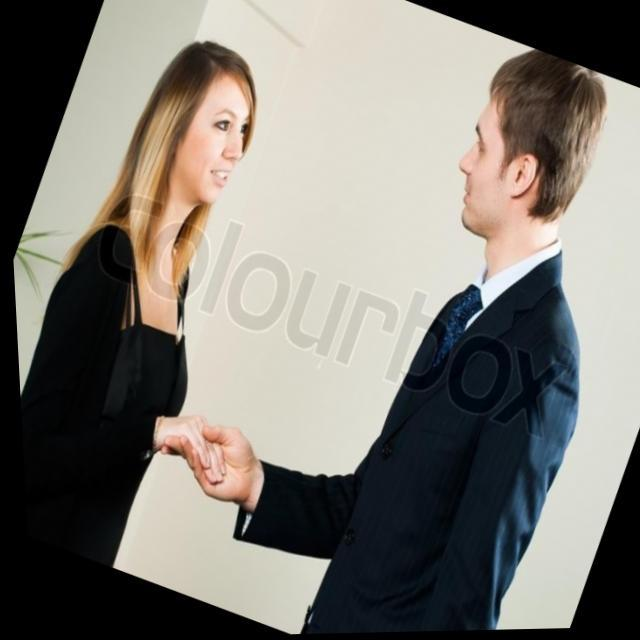Nonhelmet: (455, 48, 609, 241), (130, 38, 258, 224)
